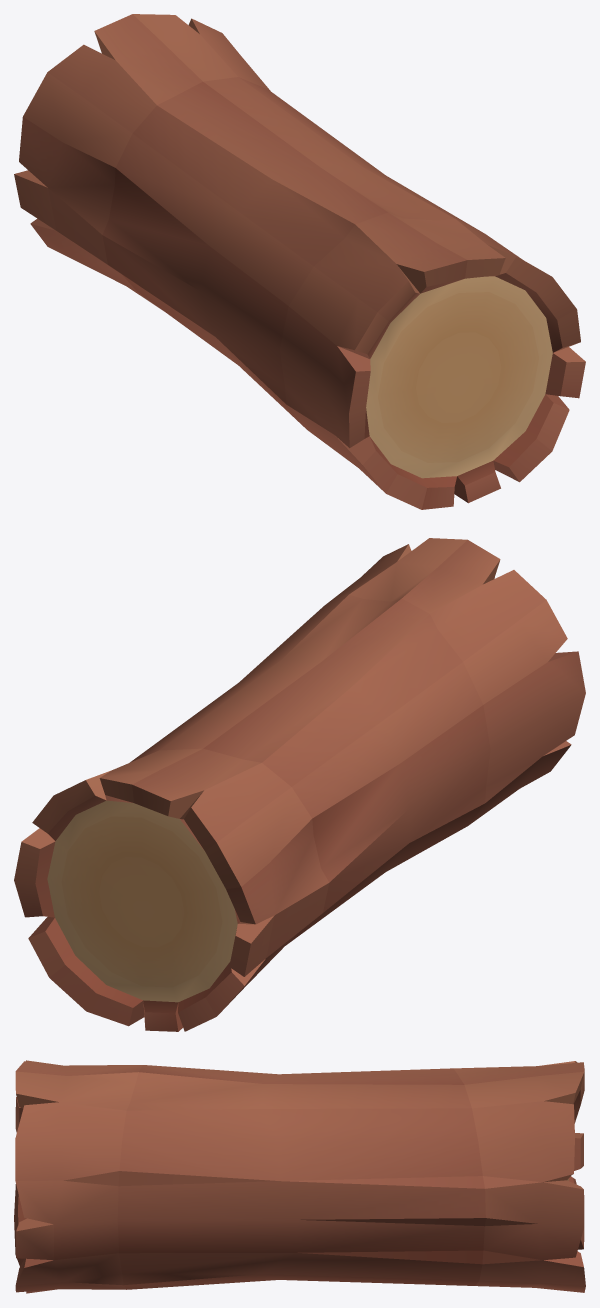
File: wood_log_b.glb
3 renders of one model, top to bottom at view 1: azimuth 30°, elevation 25°; view 2: azimuth 150°, elevation 25°; view 3: azimuth 270°, elevation 25°, orthographic. The views are drawn at different scales.
Parts seen in each view (by area): view 1: Wood_Log_B; view 2: Wood_Log_B; view 3: Wood_Log_B.
Part boxes in pixels (box(x1,y1,x2,y2)): Wood_Log_B: box(14, 14, 585, 509); Wood_Log_B: box(14, 538, 585, 1031); Wood_Log_B: box(14, 1060, 585, 1293).
Bounding box in the file's own units: 0.3294 × 0.3304 × 0.81.
1 material, 1 textured.
